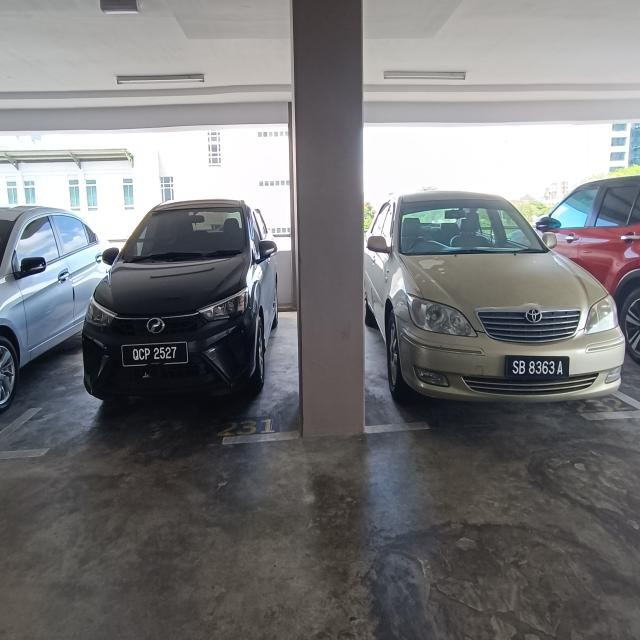PeroduaBezza: (90, 191, 282, 409)
ToyotaVios: (359, 190, 630, 430)
